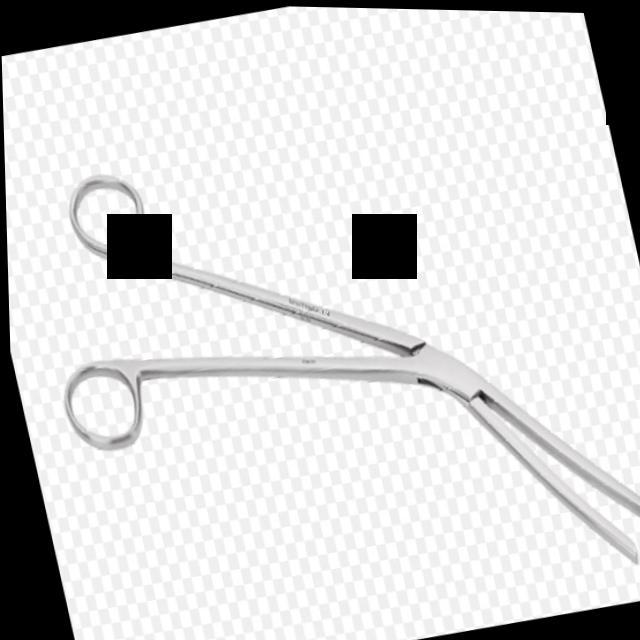Cheatle Forceps: (7, 71, 640, 640)
